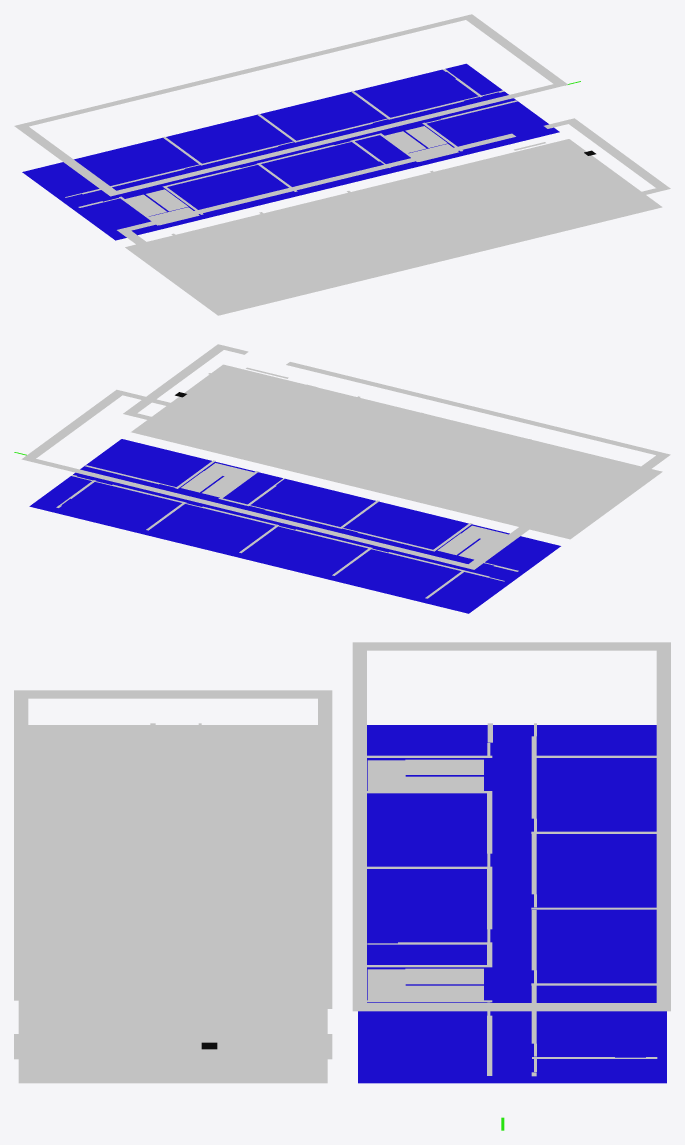
Rendered from catecc.fbx.
3 renders of one model, top to bottom at view 1: azimuth 30°, elevation 25°; view 2: azimuth 150°, elevation 25°; view 3: azimuth 270°, elevation 25°, orthographic. The views are drawn at different scales.
Visible parts, largest first — view 1: пол, пол.001, стена основа, стена 1 этаж, лесница 1.003, 1.5 этаж, лесница 2.004, 1,5 этаж, лесница 2.003, лесница 1.004; view 2: пол.001, пол, стена основа, стена 1 этаж, лесница 2.004, лесница 1.2, лесница 2.1, лесница 1.003, 1.5 этаж, лесница 1.1, 1.5 этаж.001, лесница 1.004 (+3 smaller); view 3: пол.001, пол, стена основа, стена 1 этаж, лесница 1.004, лесница 1.1, лесница 1.003, лесница 2.003, лесница 2.2, 1.5 этаж.001, 1,5 этаж, 1,5 этаж.001 (+5 smaller).
Part boxes in pixels (x1,y1,x2,y2): пол: (125, 139, 662, 315); пол.001: (22, 63, 559, 240); стена основа: (14, 14, 567, 196); стена 1 этаж: (117, 118, 670, 300); лесница 1.003: (405, 126, 447, 147); 1.5 этаж: (512, 219, 561, 236); лесница 2.004: (146, 189, 187, 211); 1,5 этаж: (253, 282, 302, 300); лесница 2.003: (125, 194, 166, 216); лесница 1.004: (385, 131, 426, 152); пол.001: (29, 439, 560, 613); пол: (131, 364, 662, 539); стена основа: (21, 389, 569, 569); стена 1 этаж: (123, 344, 670, 524); лесница 2.004: (437, 533, 479, 555); лесница 1.2: (282, 396, 324, 417); лесница 2.1: (539, 459, 580, 480); лесница 1.003: (181, 471, 222, 492); 1.5 этаж: (306, 388, 355, 405); лесница 1.1: (303, 401, 344, 422); 1.5 этаж.001: (205, 463, 253, 480); лесница 1.004: (202, 476, 242, 497); пол.001: (358, 725, 666, 1083); пол: (18, 725, 327, 1083); стена основа: (352, 642, 670, 1011); стена 1 этаж: (14, 690, 332, 1059); лесница 1.004: (405, 968, 483, 984); лесница 1.1: (66, 968, 144, 984); лесница 1.003: (405, 985, 483, 1000); лесница 2.003: (405, 759, 483, 774); лесница 2.2: (66, 759, 144, 774); 1.5 этаж.001: (367, 969, 405, 1000); 1,5 этаж: (28, 760, 66, 792); 1,5 этаж.001: (367, 760, 405, 790).
Size of the model in its own units: 18966 by 1648 by 12666.
